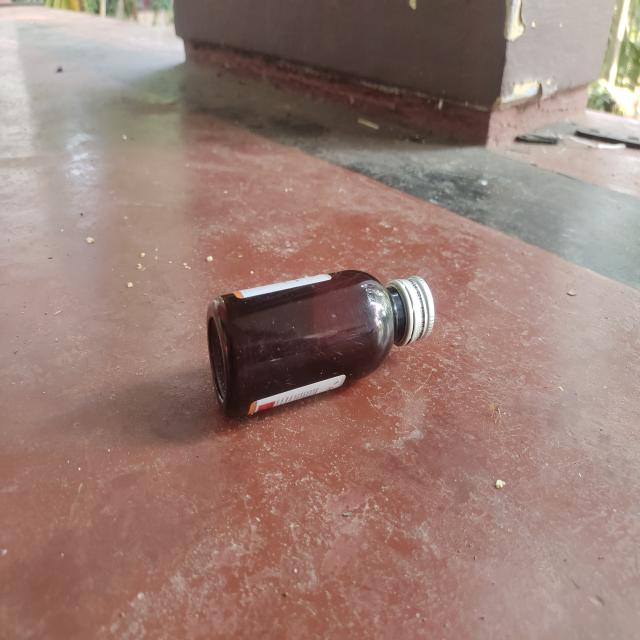plastic: (204, 265, 436, 422)
